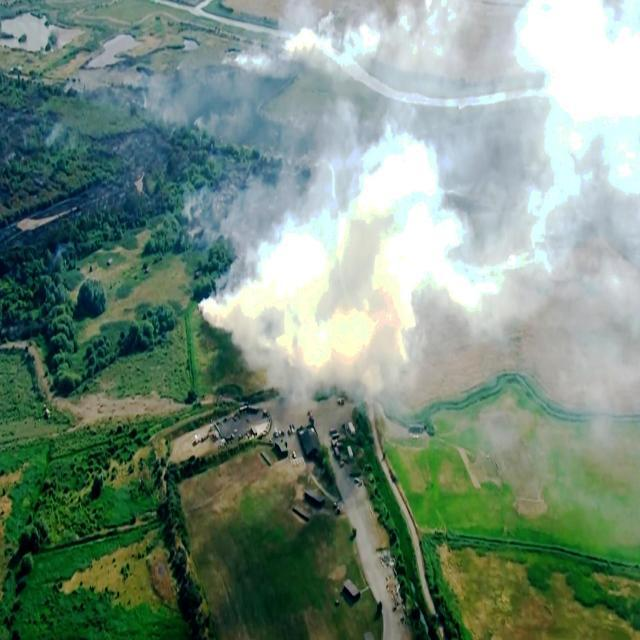Smoke: (199, 0, 640, 448)
